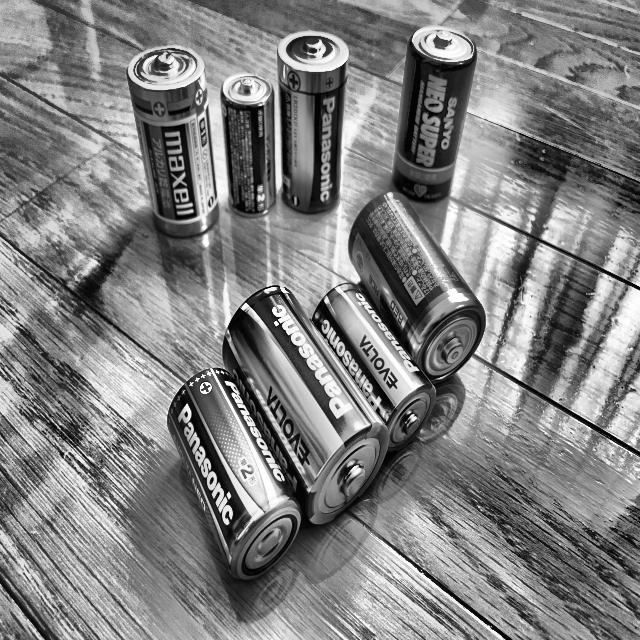drycell: (125, 42, 224, 244), (219, 68, 279, 222)
